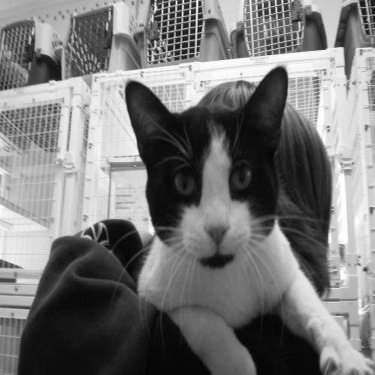cat: (101, 64, 367, 368)
